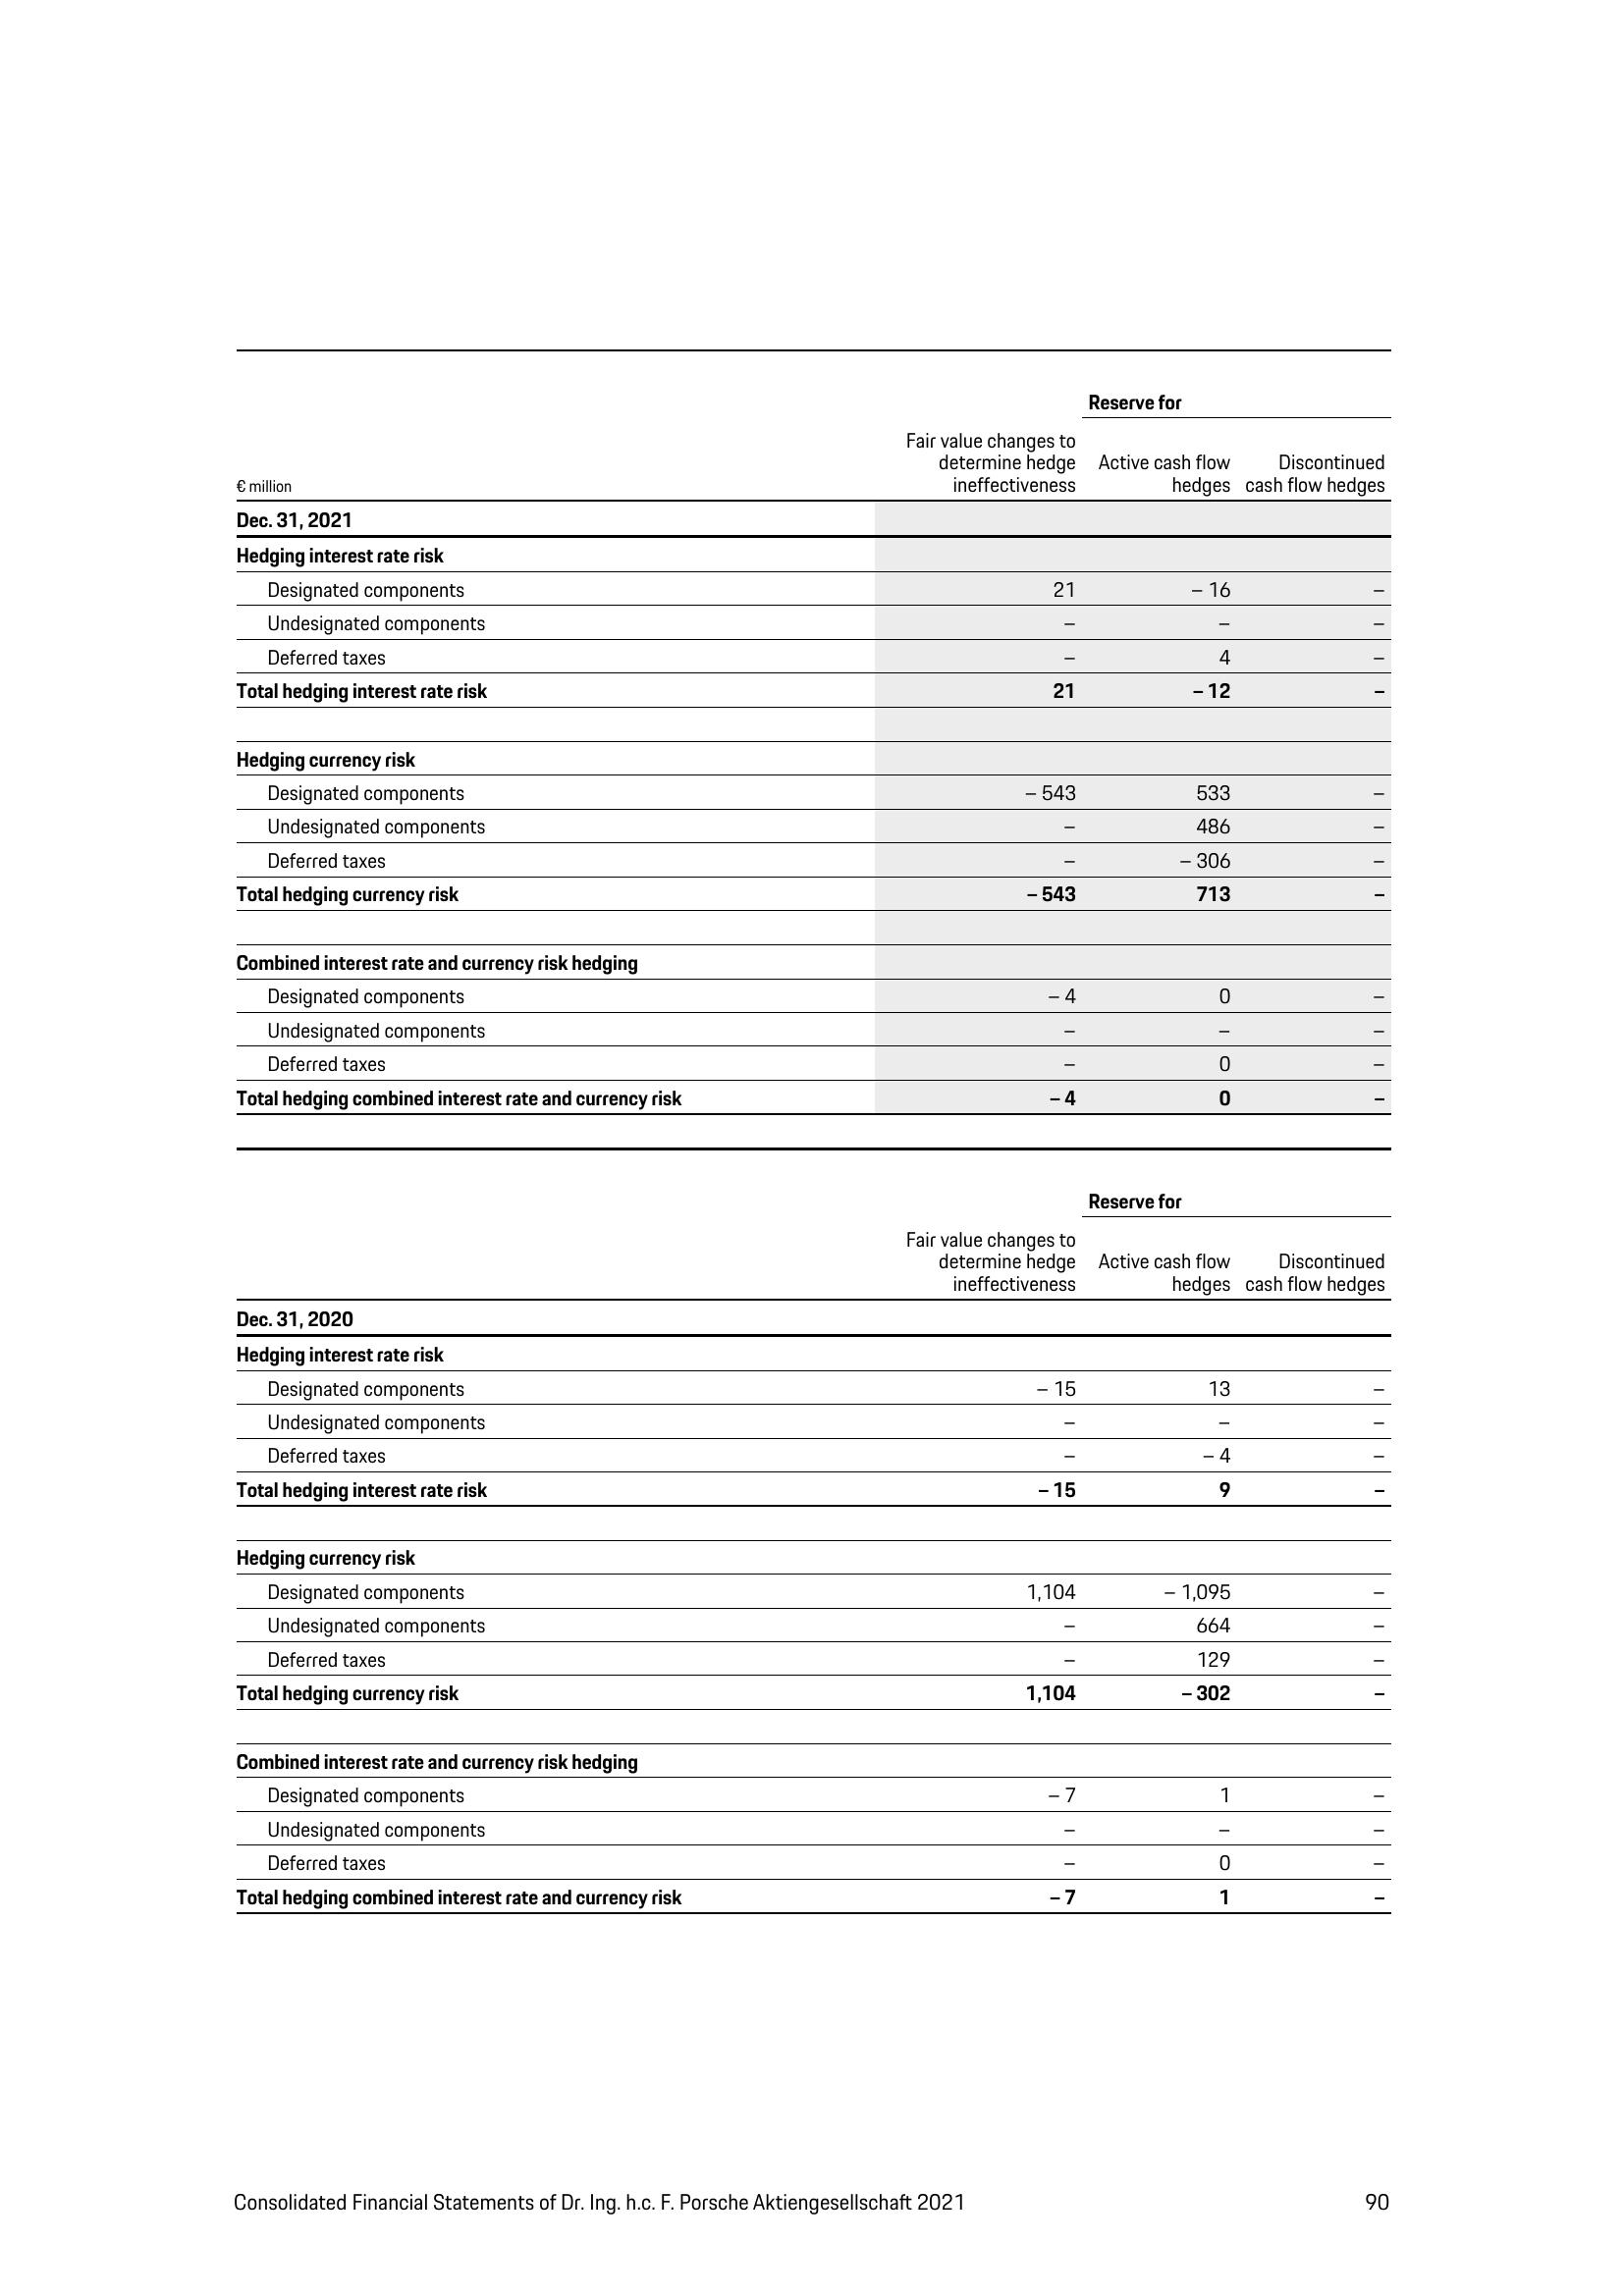Footer: (0, 2161, 1624, 2296)
Header: (0, 0, 1624, 223)
Table: (186, 341, 1417, 1163), (178, 1186, 1420, 1955)
